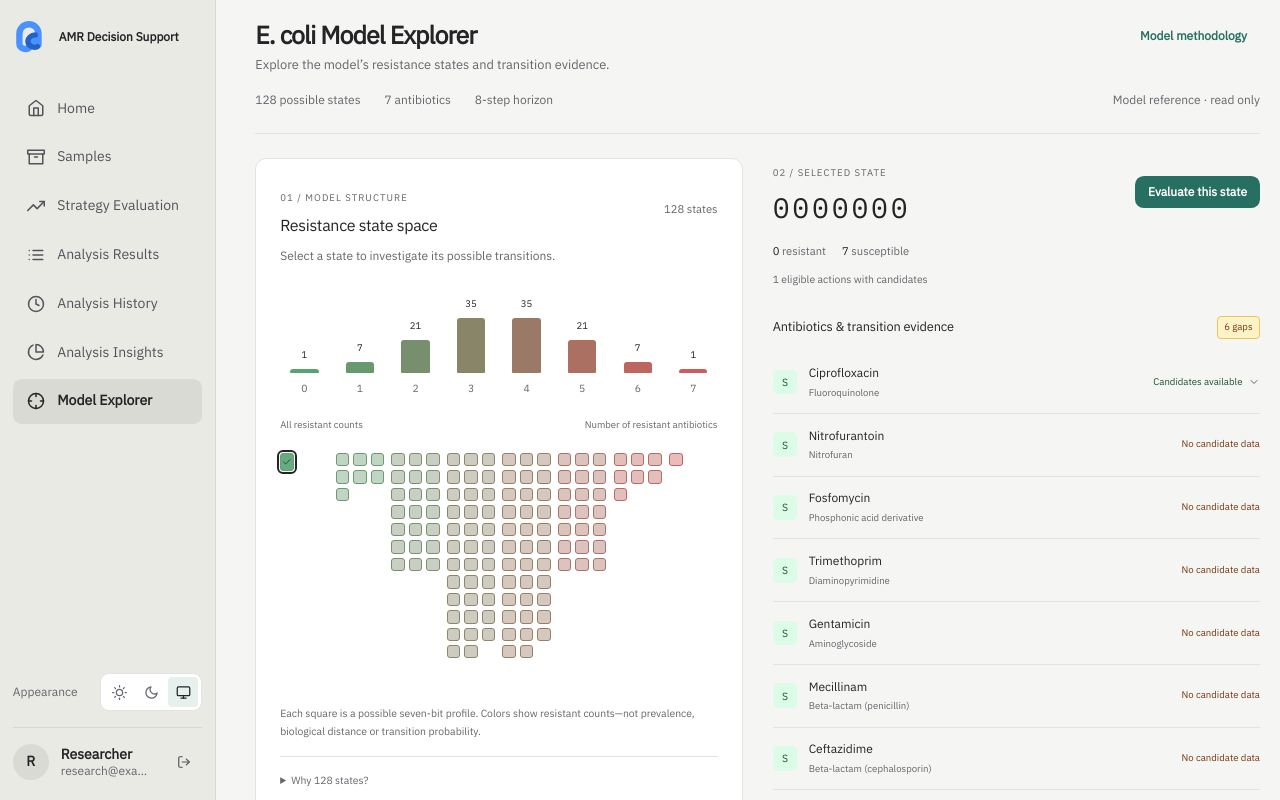
Scenario: E. coli Model Explorer › distinguishes ineligible actions from eligible data gaps and exposes actual candidate links and source IDs
The image size is (1280, 800).
Click the button with aria-label "Inspect Ciprofloxacin candidates". click: (1207, 382)
box: [1153,368,1260,396]
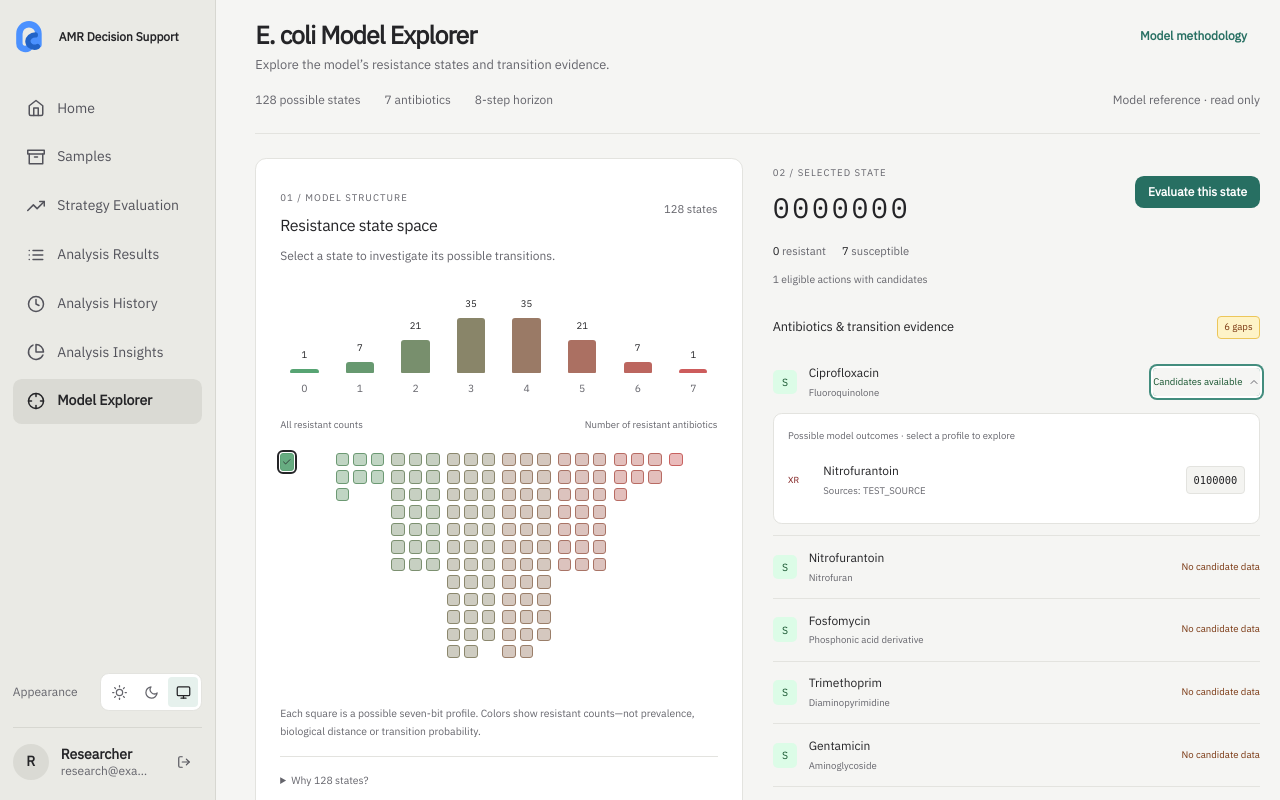
Expected: the text "Sources: TEST_SOURCE" is shown, [823,484,926,498]
Click the button named "Explore candidate state 0100000". click: (1215, 480)
box: [1186,466,1245,494]
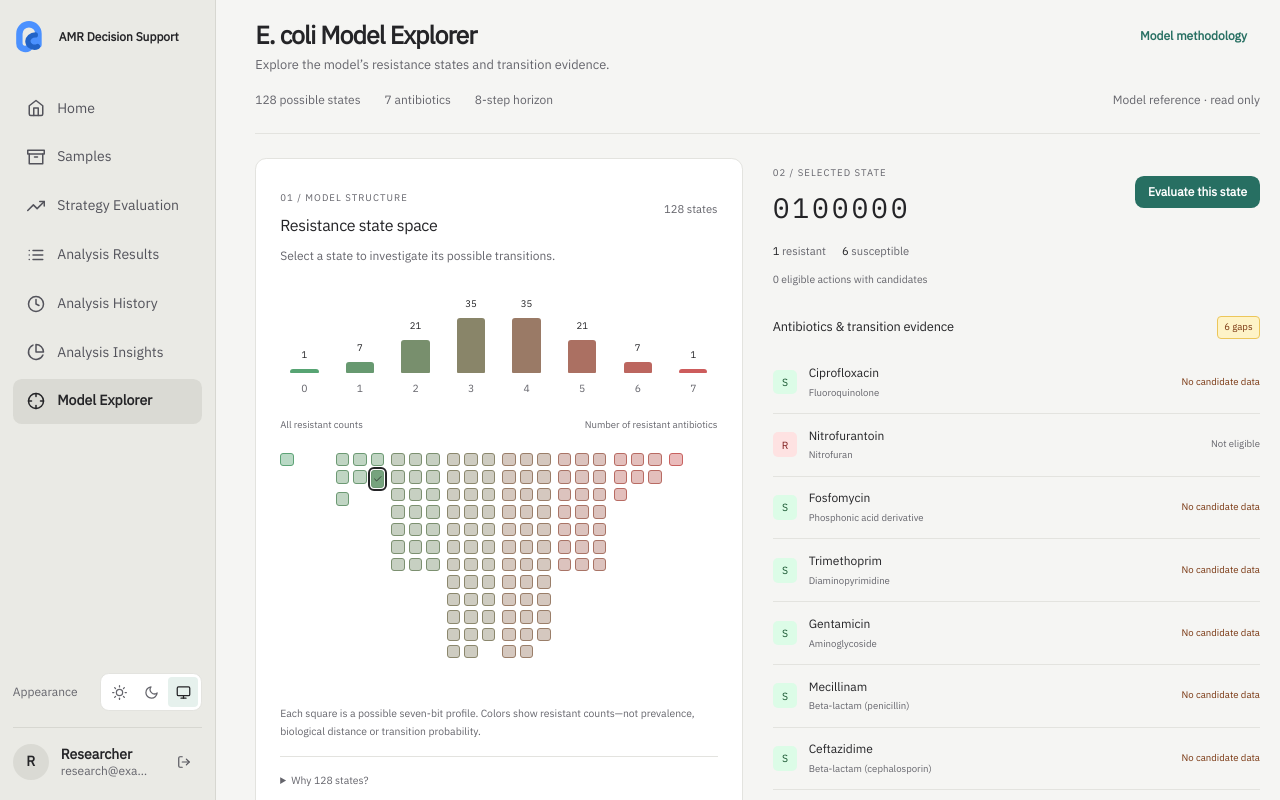
Expected: the list item "Nitrofurantoin" shows "Not eligible", [1211,437,1260,450]
Expected: the list item "Ciprofloxacin" shows "No candidate data", [1182,374,1260,388]
Expected: the text "Sources: TEST_SOURCE" is gone
